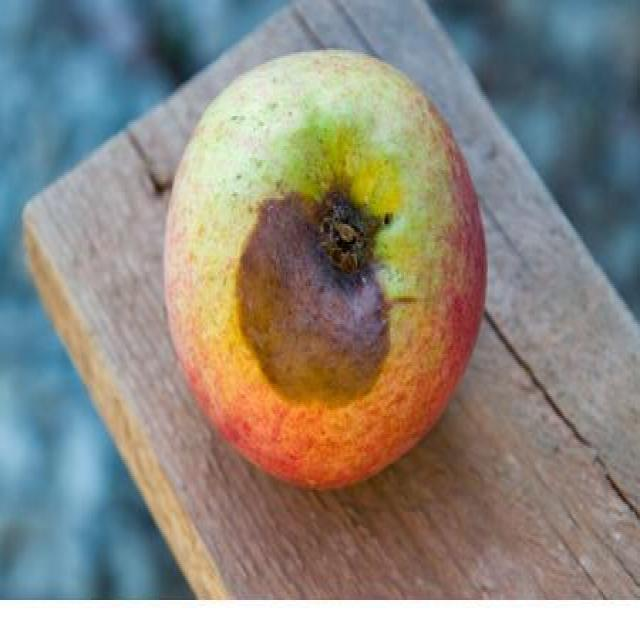Rotten: (168, 62, 480, 471)
